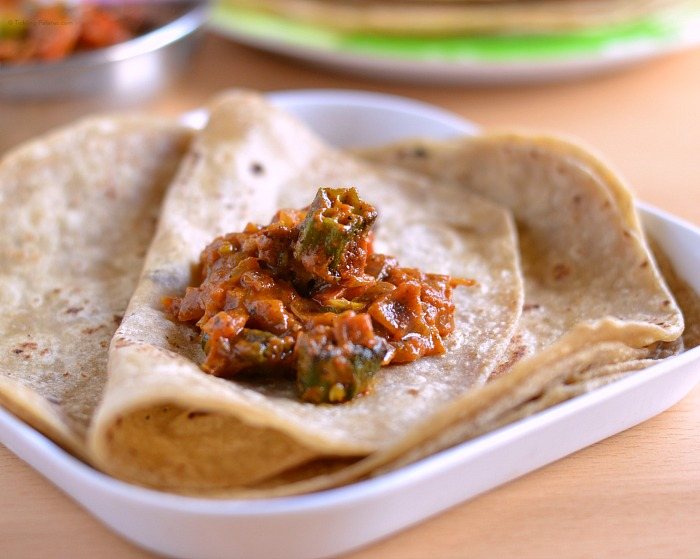curry: (168, 167, 471, 394)
roti: (87, 87, 676, 479), (7, 108, 185, 448)
